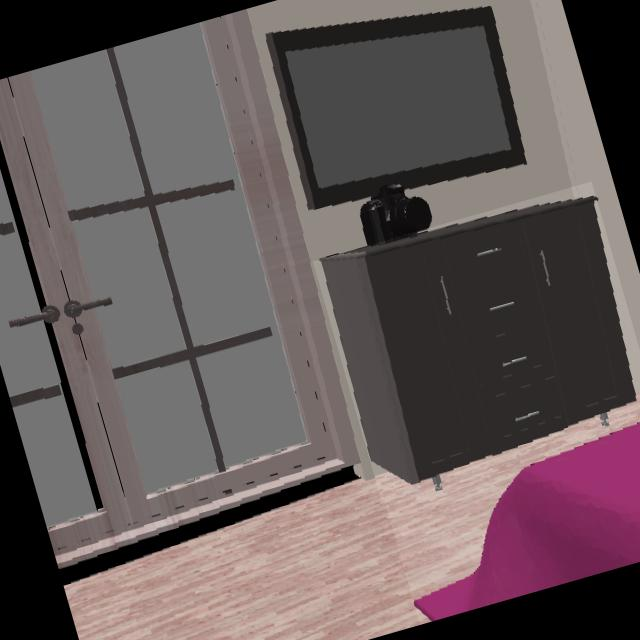bed: (416, 421, 640, 622)
cabinet: (320, 197, 637, 486)
